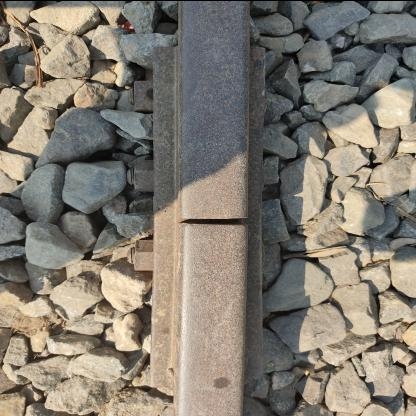Non Defective: (134, 29, 308, 388)
